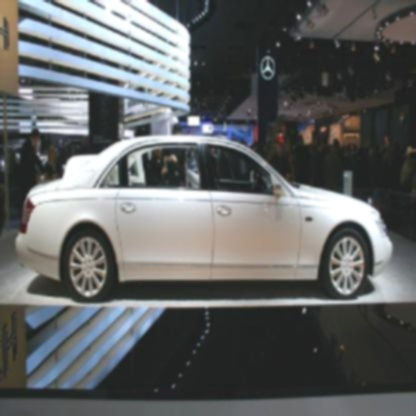Vehicle: (16, 134, 394, 299)
